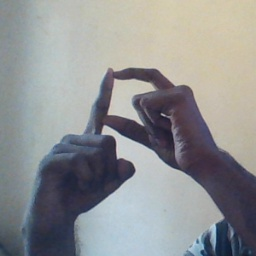D: (69, 60, 187, 171)
